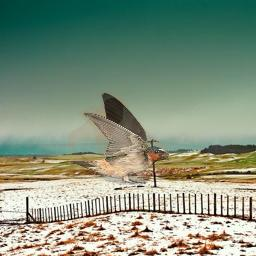Swallow: (68, 92, 169, 185)
